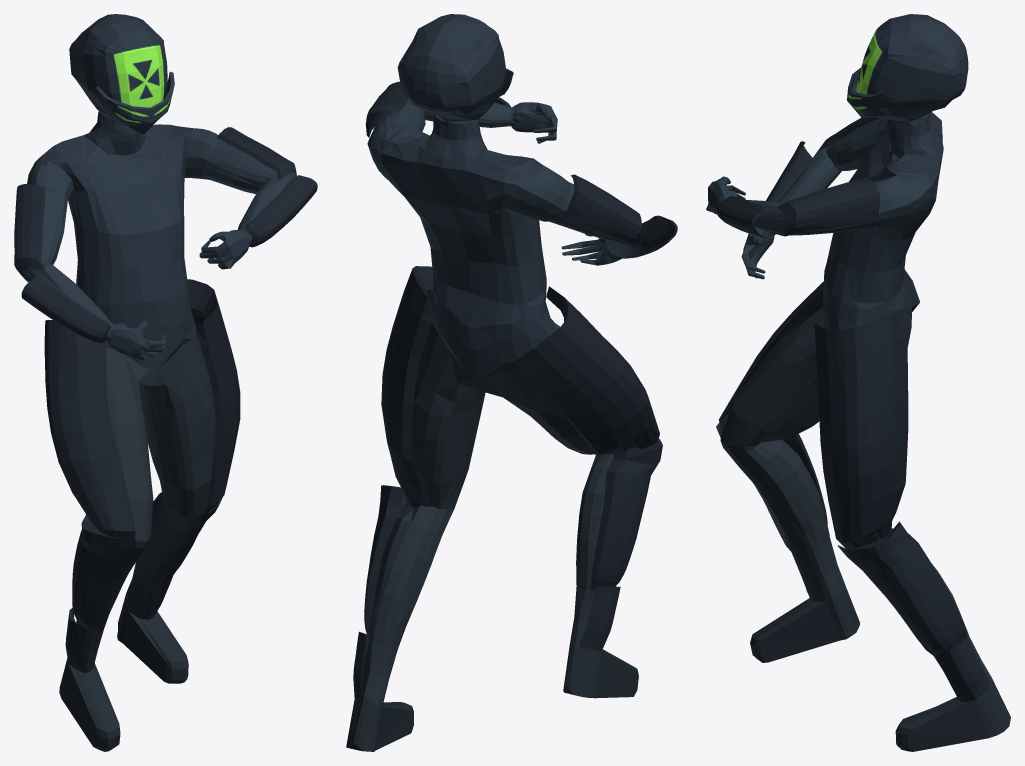
Rendered from Bastion_Hit_000004.obj.
The picture shows the model from 3 angles, left to right: view 1: azimuth 30°, elevation 25°; view 2: azimuth 150°, elevation 25°; view 3: azimuth 270°, elevation 25°; orthographic projection. The views are drawn at different scales.
Visible parts, largest first — view 1: Cube.002; view 2: Cube.002; view 3: Cube.002.
Boxes of the visible parts, left/top/right/bottom form: Cube.002: left=14, top=14, right=317, bottom=751; Cube.002: left=346, top=14, right=677, bottom=751; Cube.002: left=706, top=14, right=1010, bottom=751.
Bounding box in the file's own units: 1.58 × 3.73 × 1.47.
